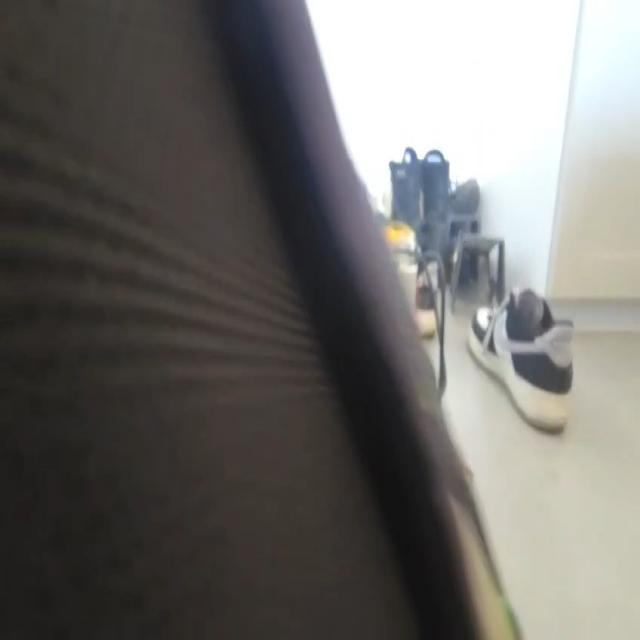Robot: (372, 210, 451, 422)
